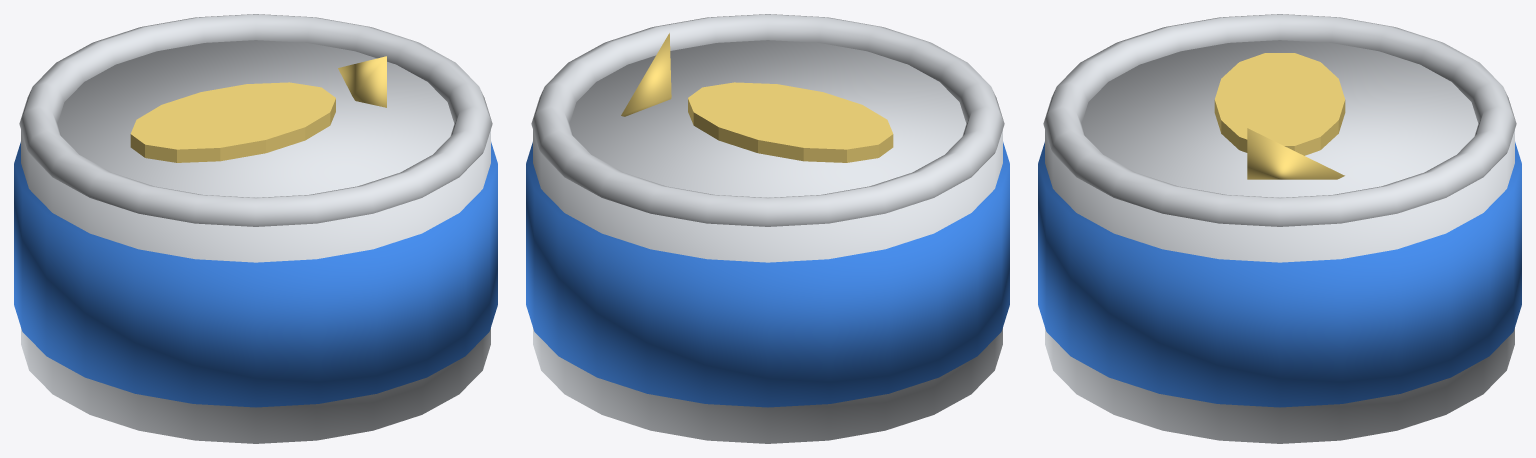
The model's file is tuna_can.glb.
The picture shows the model from 3 angles, left to right: view 1: azimuth 30°, elevation 25°; view 2: azimuth 150°, elevation 25°; view 3: azimuth 270°, elevation 25°; orthographic projection.
Parts seen in each view (by area): view 1: tuna_can; view 2: tuna_can; view 3: tuna_can.
Boxes of the visible parts, <box> form: tuna_can: <box>14,14,497,443</box>; tuna_can: <box>526,14,1009,443</box>; tuna_can: <box>1038,14,1521,443</box>.
Bounding box in the file's own units: 0.556 × 0.3456 × 0.556.
